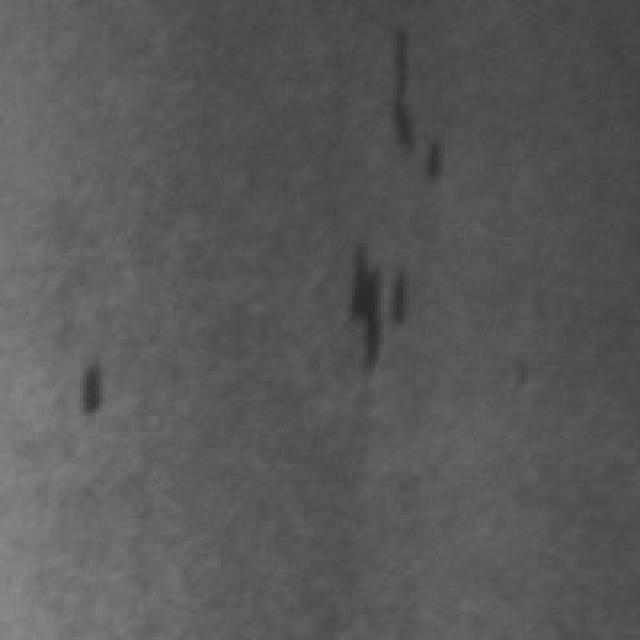inclusion: (374, 16, 445, 189), (336, 230, 410, 374), (67, 340, 106, 422)
